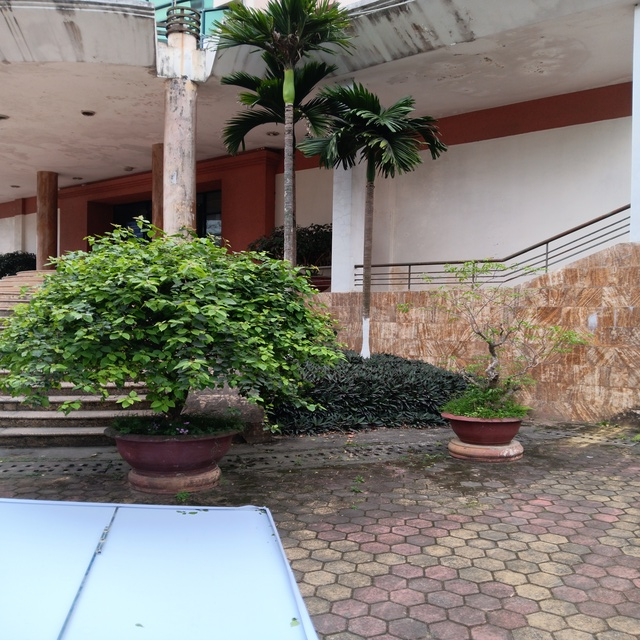caycanh: (54, 223, 272, 502), (424, 265, 554, 479)
